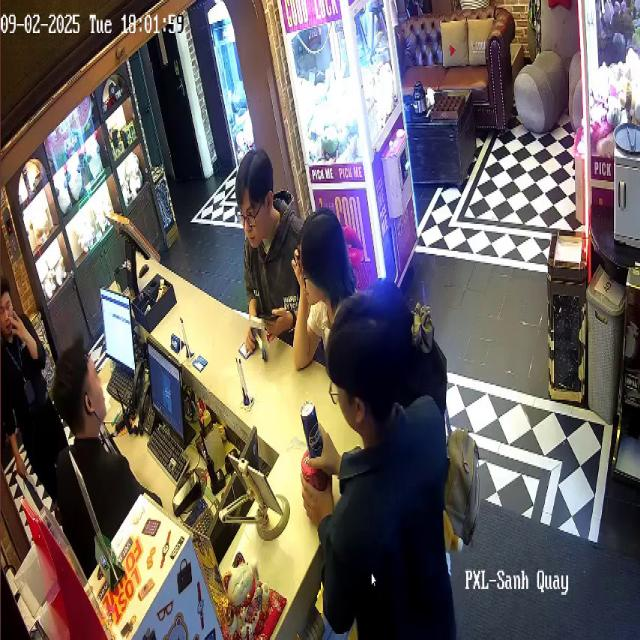khach: (301, 291, 460, 640), (231, 147, 305, 375), (294, 202, 364, 404)
nhan vien: (53, 332, 152, 561), (0, 269, 55, 523)
